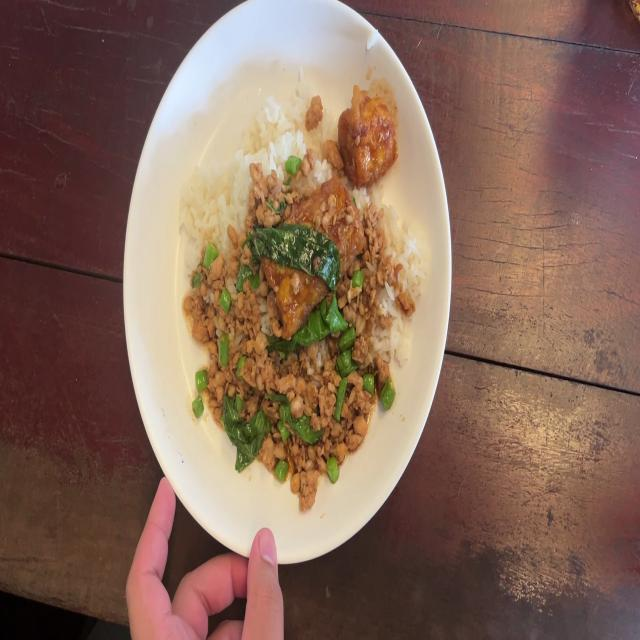01rice: (245, 93, 331, 178), (388, 204, 423, 369), (187, 158, 242, 248)
fried_tofo: (272, 180, 361, 315), (342, 90, 394, 176)
minced_pork: (264, 339, 372, 493), (188, 239, 266, 444), (240, 171, 300, 235), (362, 203, 384, 347)
stir_fried_basil: (180, 80, 426, 500)
